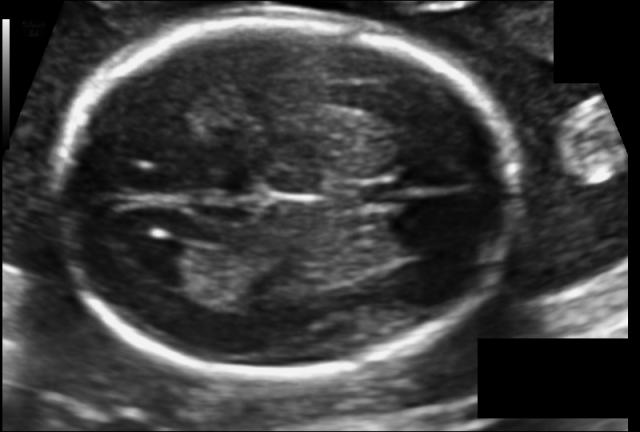CHOROID_PLEXUS: (157, 216, 273, 326)
CSP: (362, 130, 492, 236)
MIDLINE_FALX: (60, 158, 518, 238)
